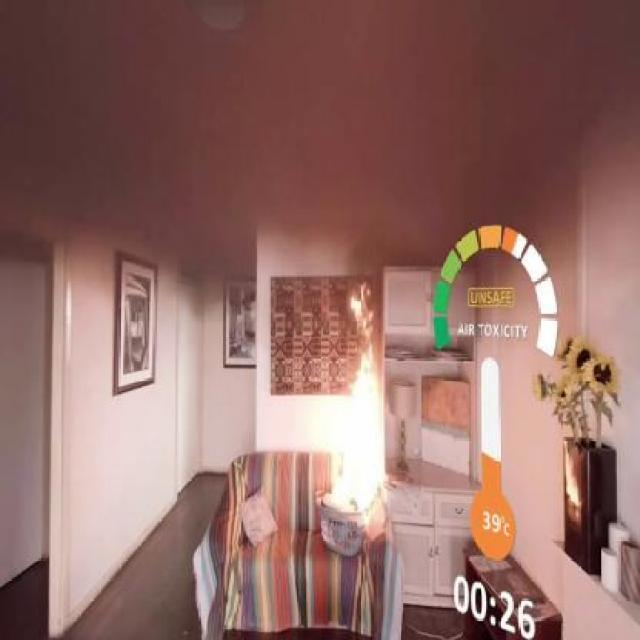fire: (330, 292, 388, 568)
smoke: (92, 23, 540, 205)
